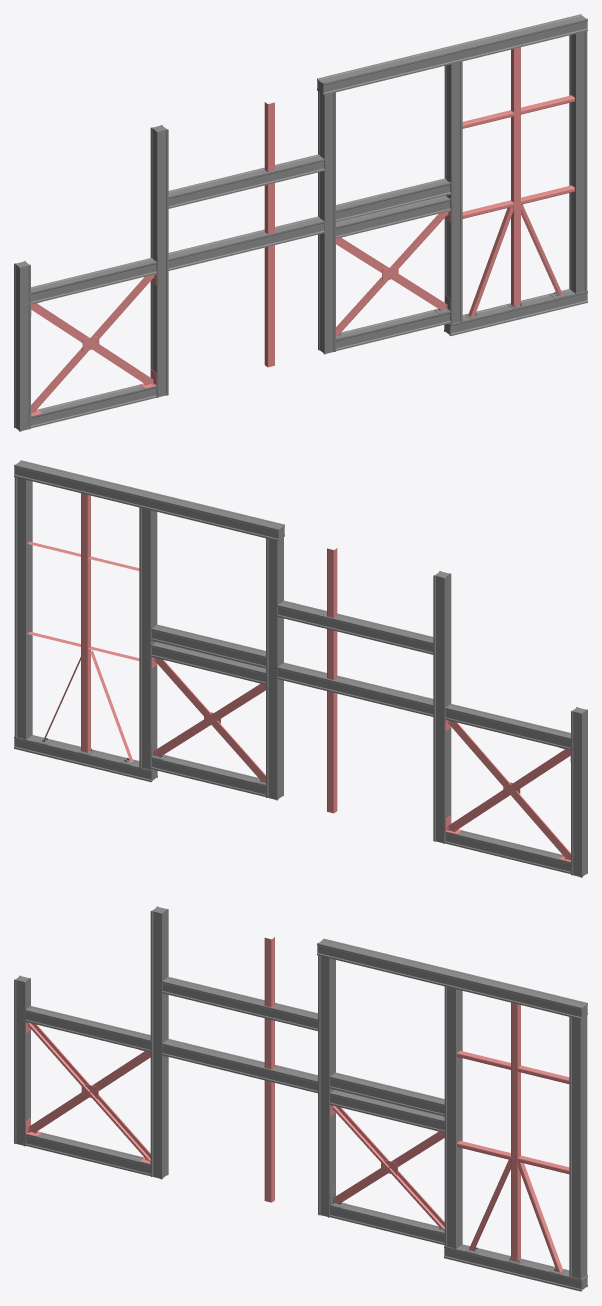
File: S_Envi_Umeda_Shelf_03c.gltf
3 views of the same model, one above another, from view 1: azimuth 30°, elevation 25°; view 2: azimuth 150°, elevation 25°; view 3: azimuth 330°, elevation 25° (orthographic).
Parts seen in each view (by area): view 1: S_Envi_Umeda_Shelf_03c; view 2: S_Envi_Umeda_Shelf_03c; view 3: S_Envi_Umeda_Shelf_03c.
Part boxes in pixels (x1,y1,x2,y2): S_Envi_Umeda_Shelf_03c: (14,14,587,431); S_Envi_Umeda_Shelf_03c: (14,460,587,877); S_Envi_Umeda_Shelf_03c: (14,906,587,1291).
Size of the model in its own units: 19.98 by 9.54 by 0.414.
